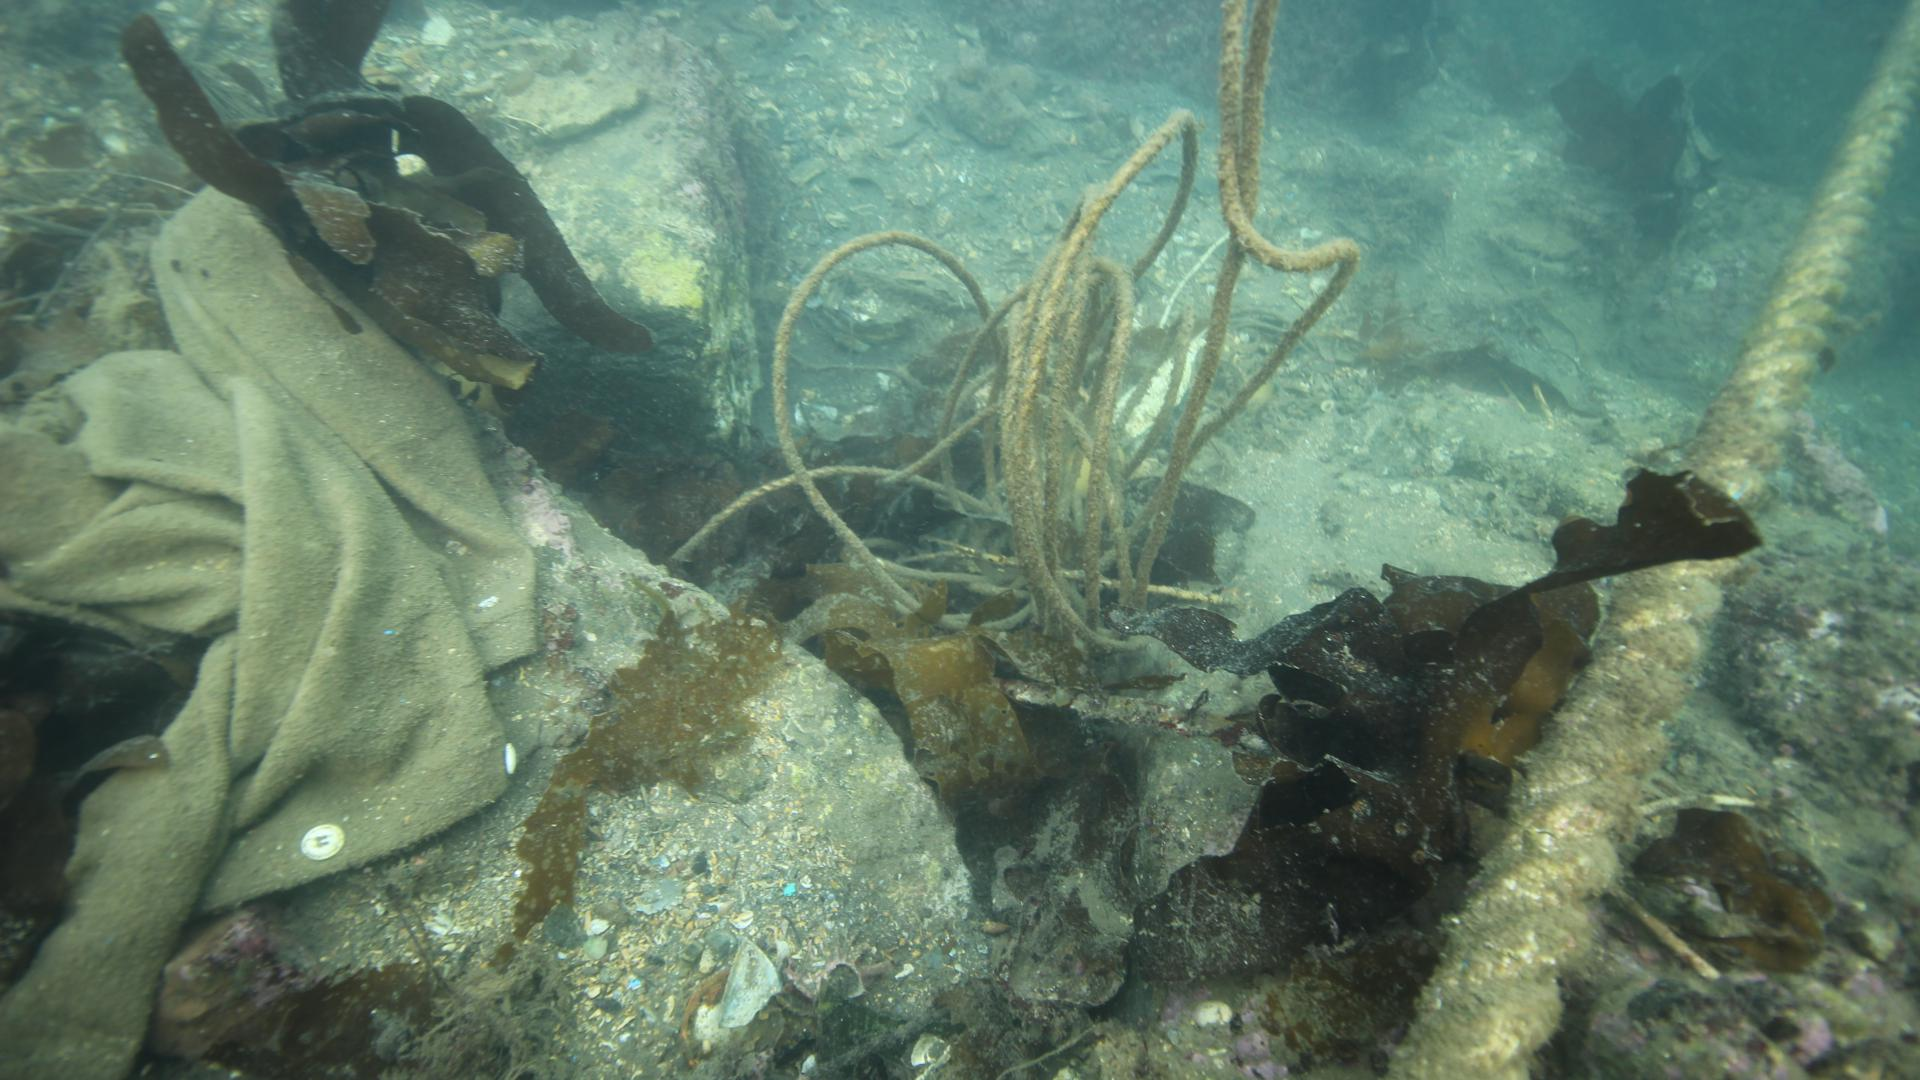bundle of ropes: (663, 0, 1365, 659)
rope: (1390, 0, 1920, 1080)
